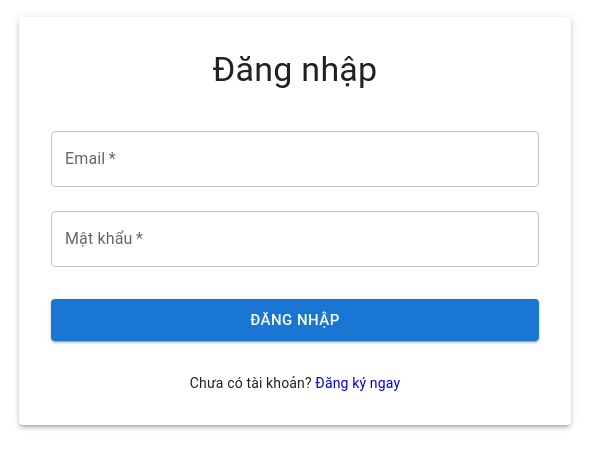
it: LoginPage - Error Handling & Validation › Client-side Validation › should display password validation error when password is too short
The image size is (591, 470).
# User enters short password and blurs
Type "123" into the password field labelled "Mật khẩu *".
click(295, 239); type("123")  # box [51,211,539,267]
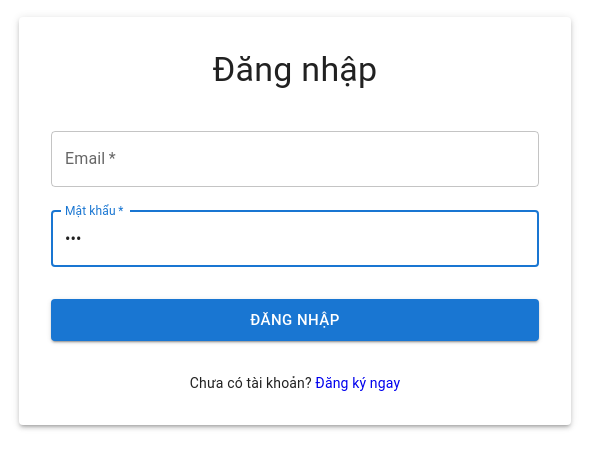
Leave the password field labelled "Mật khẩu *", box [51,211,539,267]
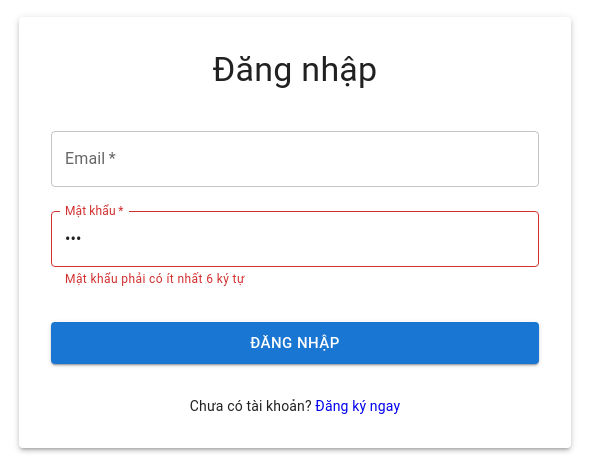
Result: the text "Mật khẩu phải có ít nhất 6 ký tự" is shown at [65,272,245,286]
